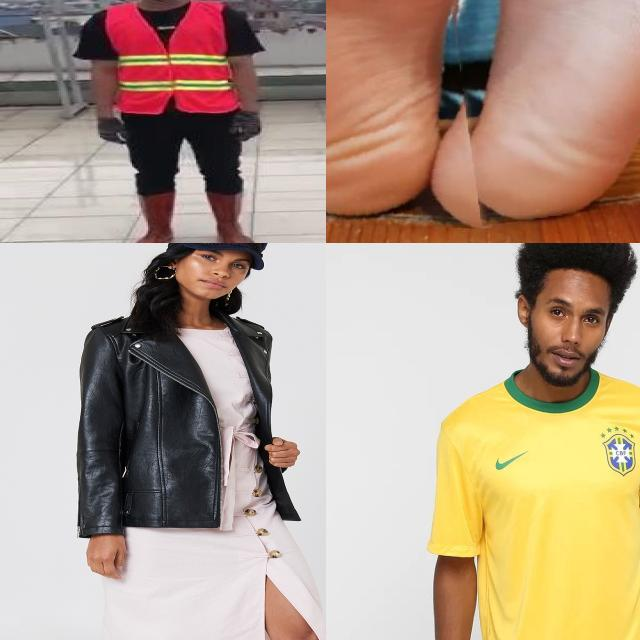Barefoots: (430, 0, 640, 216), (326, 0, 462, 223)
No_Ear-Protection: (515, 287, 535, 334)
No_Glasses: (541, 294, 605, 338)
boots: (204, 191, 258, 243), (135, 192, 174, 243)
hand_glove: (232, 106, 264, 143), (93, 118, 127, 144)
person: (72, 0, 278, 243)
vest: (102, 0, 237, 113)
